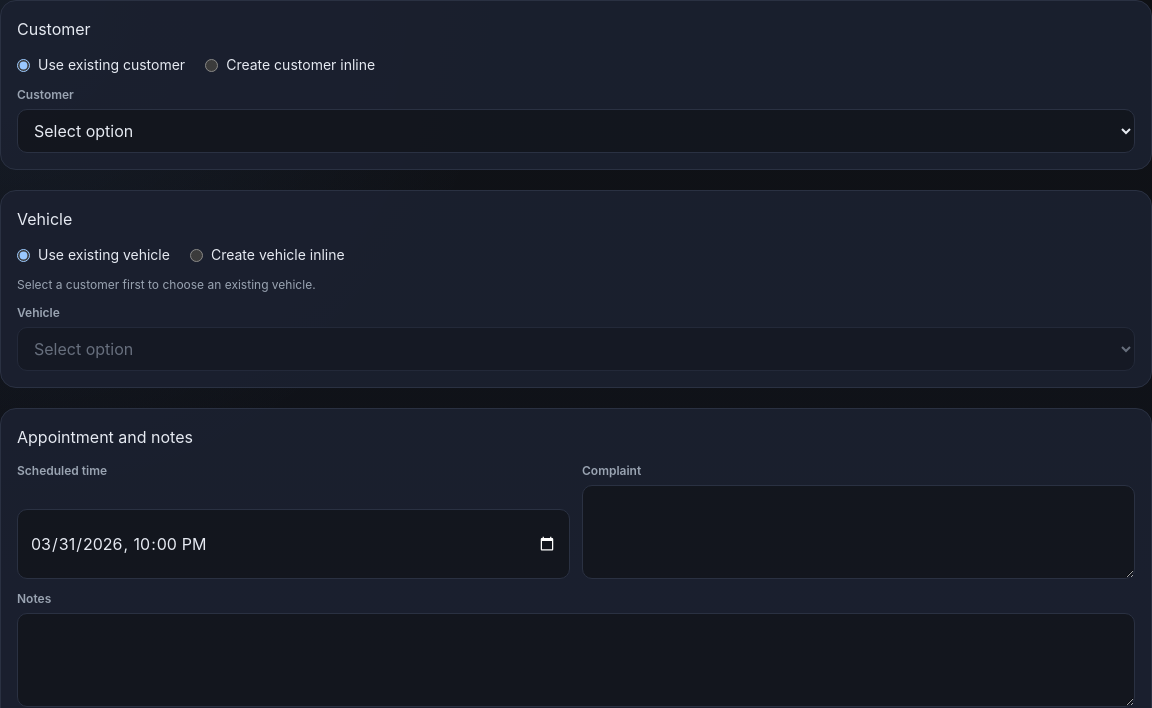
Test case: CreateOrderForm › forces new vehicle flow when customer mode is new
Click the radio button labelled "Create customer inline" at (212, 65), box [205, 58, 218, 72]
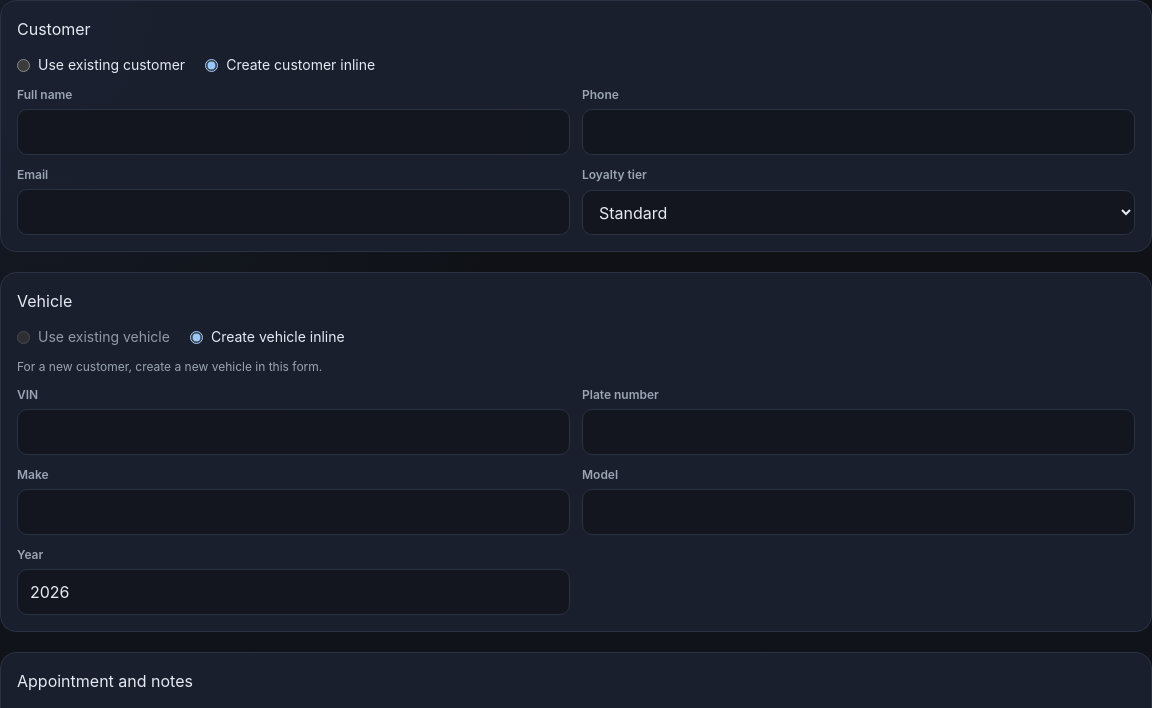
Result: the radio button labelled "Use existing vehicle" is disabled at [17, 330, 30, 344]
Result: the radio button labelled "Create vehicle inline" is checked at [190, 330, 203, 344]
Result: the text "For a new customer, create a new vehicle in this form." is shown at [17, 359, 322, 374]
